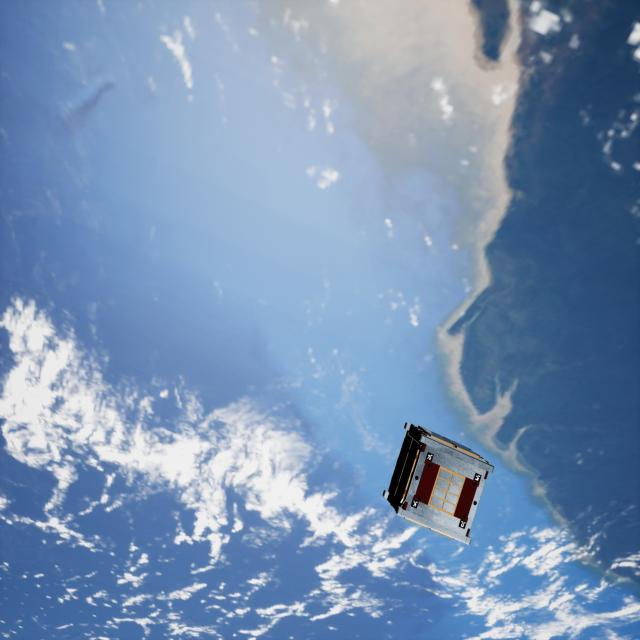medium_debris: (382, 419, 495, 545)
